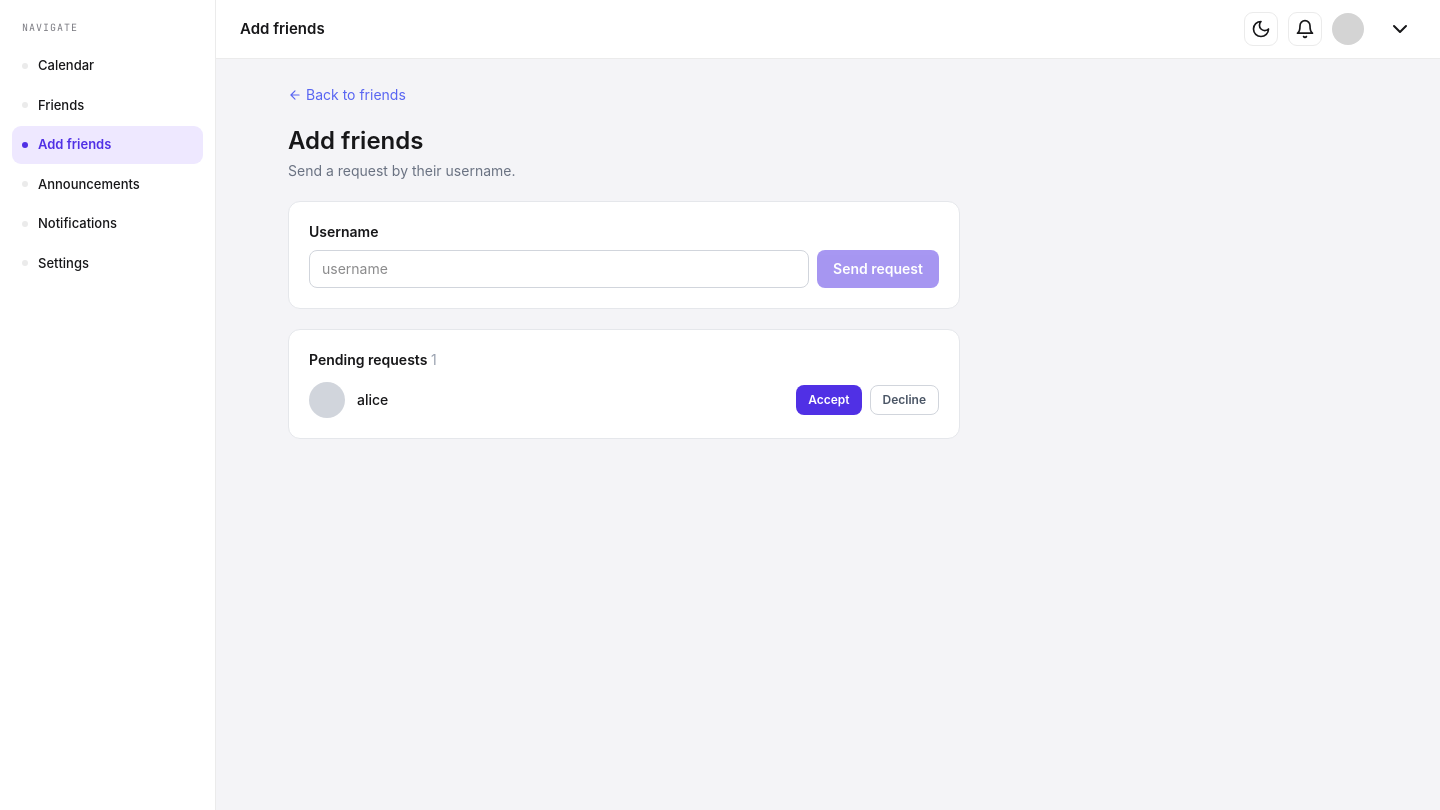
Test: add friends page › lists incoming requests and accepts one
The width and height of the screenshot is (1440, 810).
Check: the text "alice" is shown, box [357, 391, 388, 408]
Click the button "Accept" at (829, 400), box [796, 385, 862, 415]
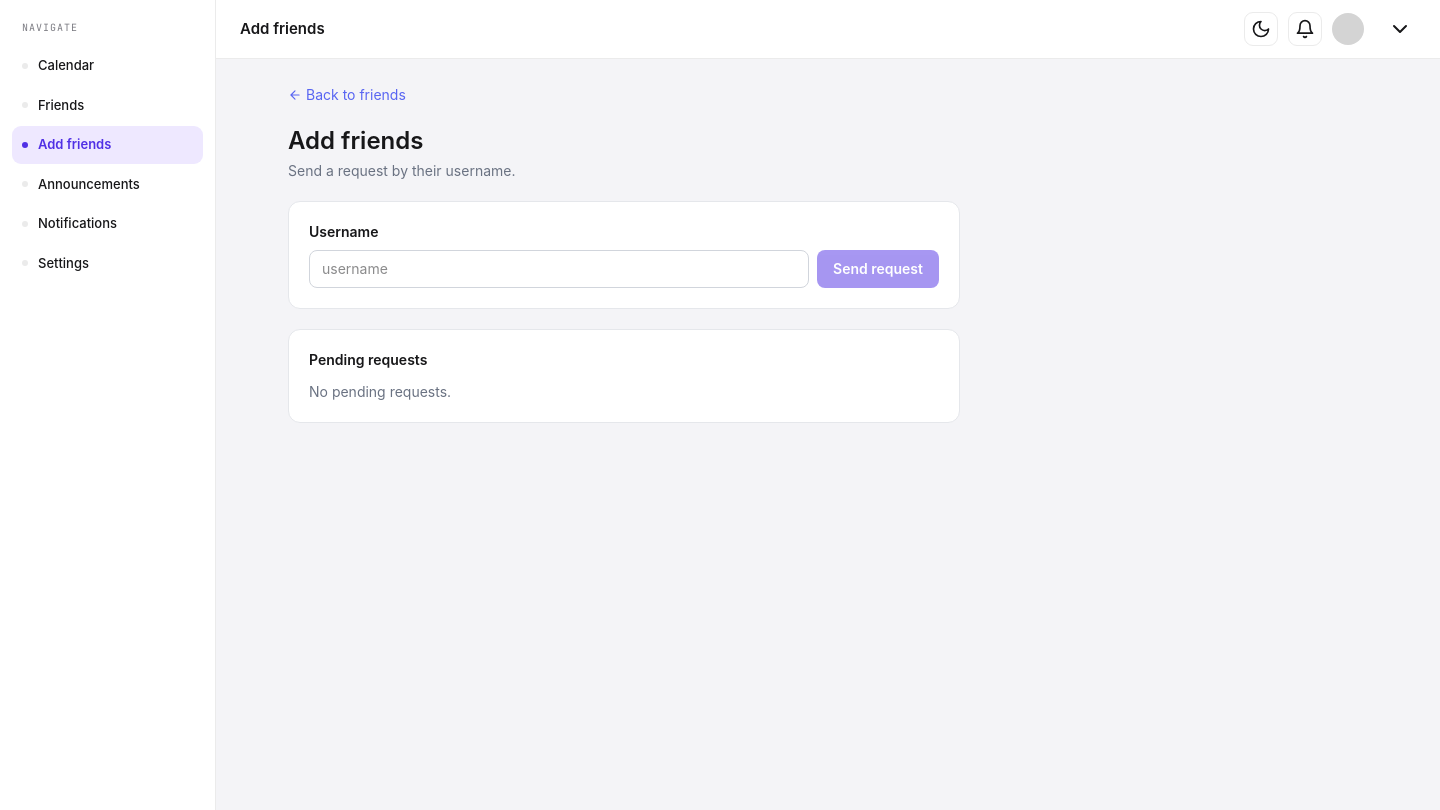
Check: the text "alice" is gone
